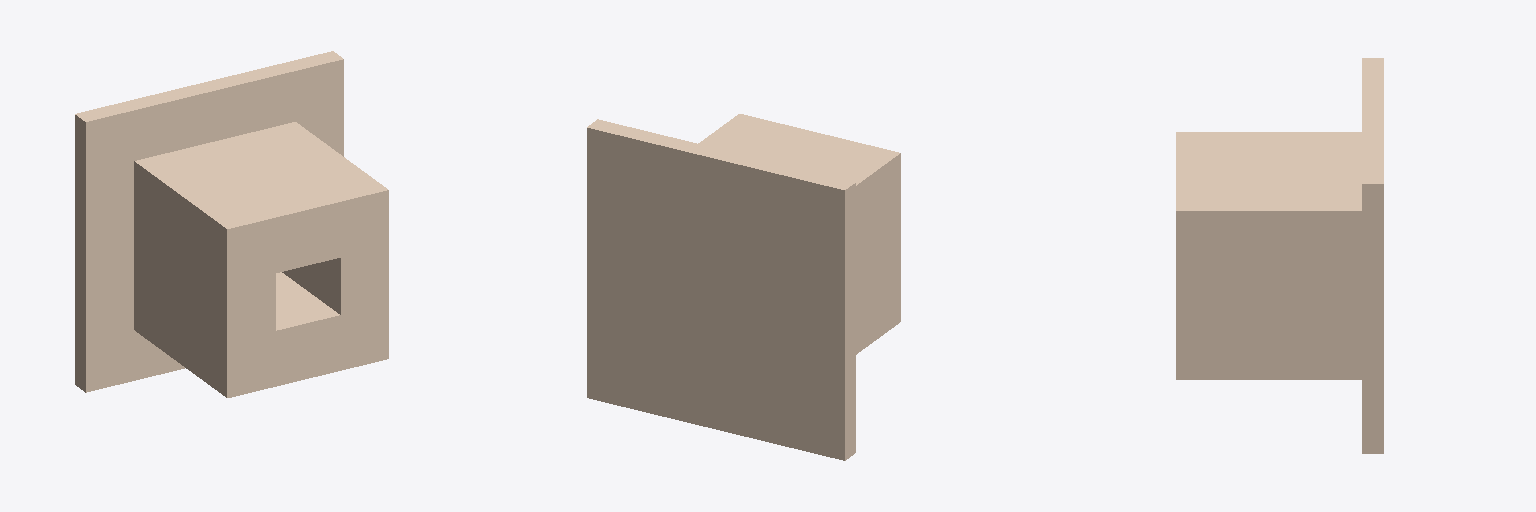
File: industreal_tray_pick_rectangular_peg_8mm.obj
3 views of the same model, side by side, from view 1: azimuth 30°, elevation 25°; view 2: azimuth 150°, elevation 25°; view 3: azimuth 270°, elevation 25° (orthographic).
Parts seen in each view (by area): view 1: industreal_tray_pick_rectangular_peg_8mm; view 2: industreal_tray_pick_rectangular_peg_8mm; view 3: industreal_tray_pick_rectangular_peg_8mm.
Boxes of the visible parts, box(x1,y1,x2,y2) form: industreal_tray_pick_rectangular_peg_8mm: box(75, 51, 388, 397); industreal_tray_pick_rectangular_peg_8mm: box(587, 114, 900, 460); industreal_tray_pick_rectangular_peg_8mm: box(1176, 58, 1383, 453).
Size of the model in its own units: 0.04 by 0.04 by 0.028.